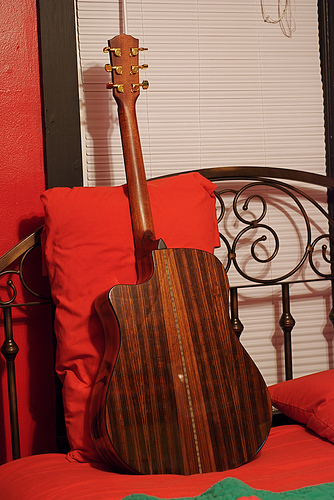guitar: (82, 30, 275, 479)
